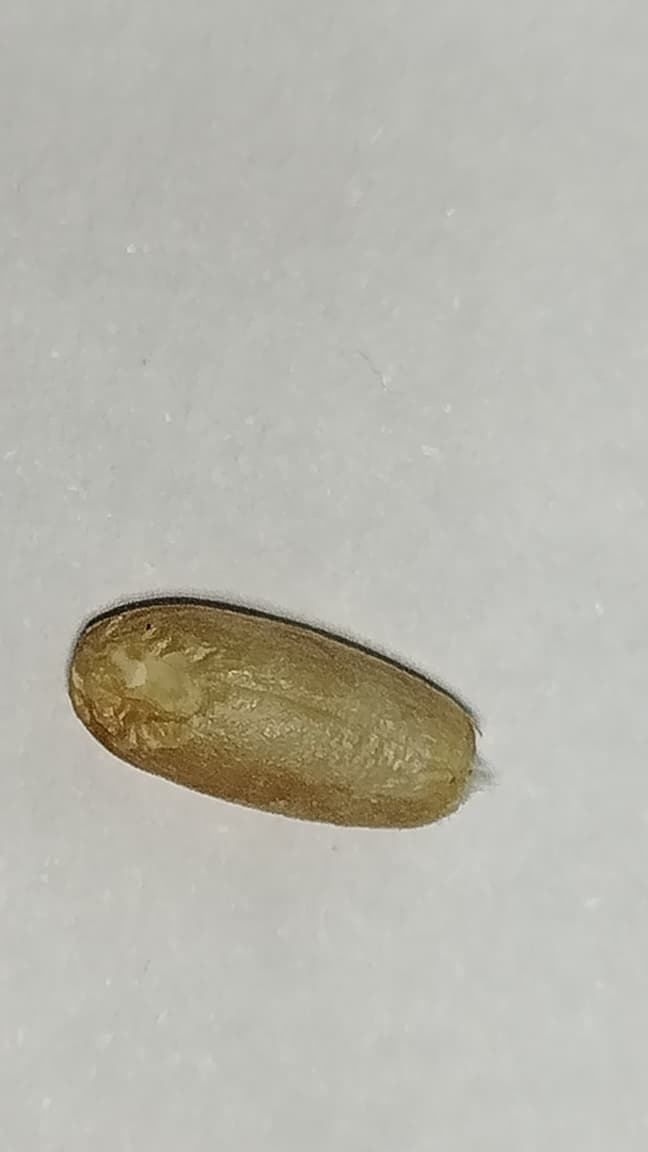healthy: (67, 594, 479, 829)
